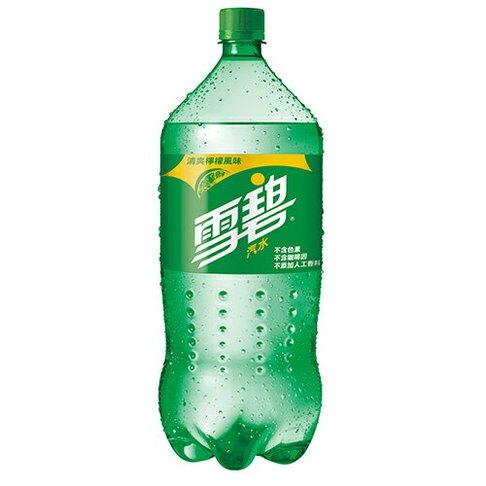plastic_bottle: (153, 7, 333, 461)
